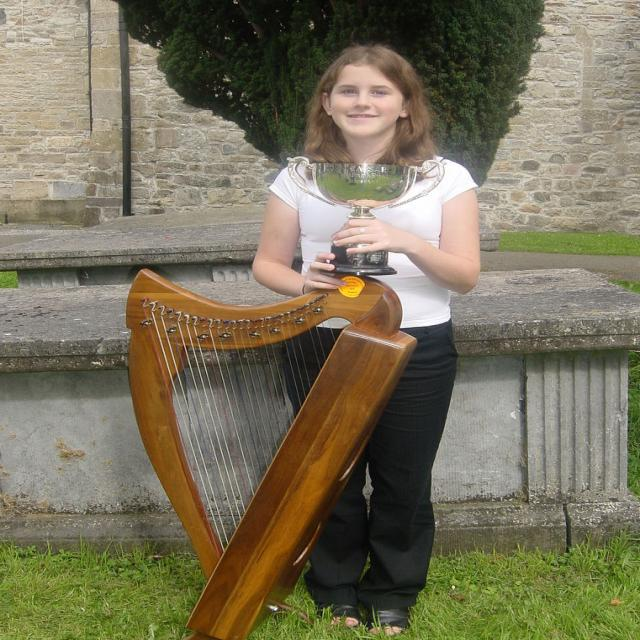harp: (117, 267, 417, 640)
